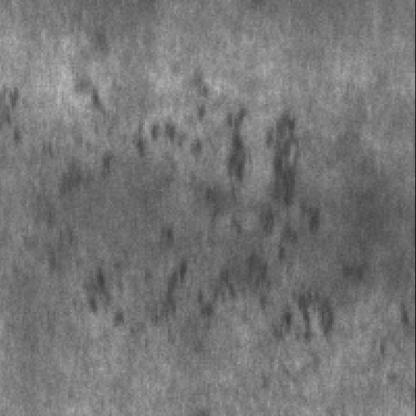rolled-in_scale: (54, 83, 314, 235), (81, 221, 343, 344)
